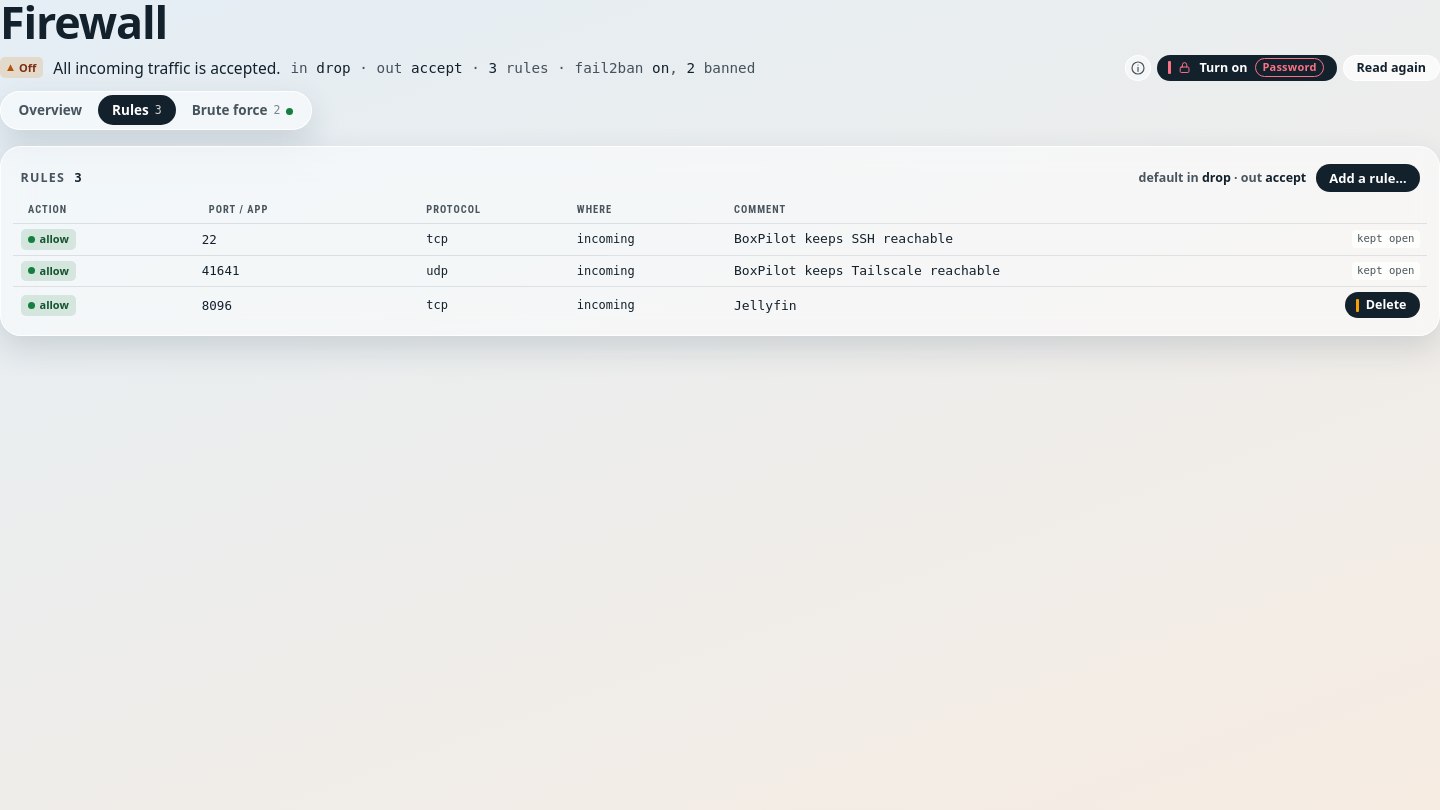
Test: Firewall page › lists the rules, keeps the protected ones, and stages deleting another
Check: the text "Jellyfin" is shown, box [734,298,797,312]
Check: the row "allow 22 tcp incoming BoxPilot keeps SSH reachable kept open" is shown, box [13,224,1427,255]
Click the button with aria-label "Delete allow 8096/tcp".
click(1382, 305)  # box [1345,292,1420,318]
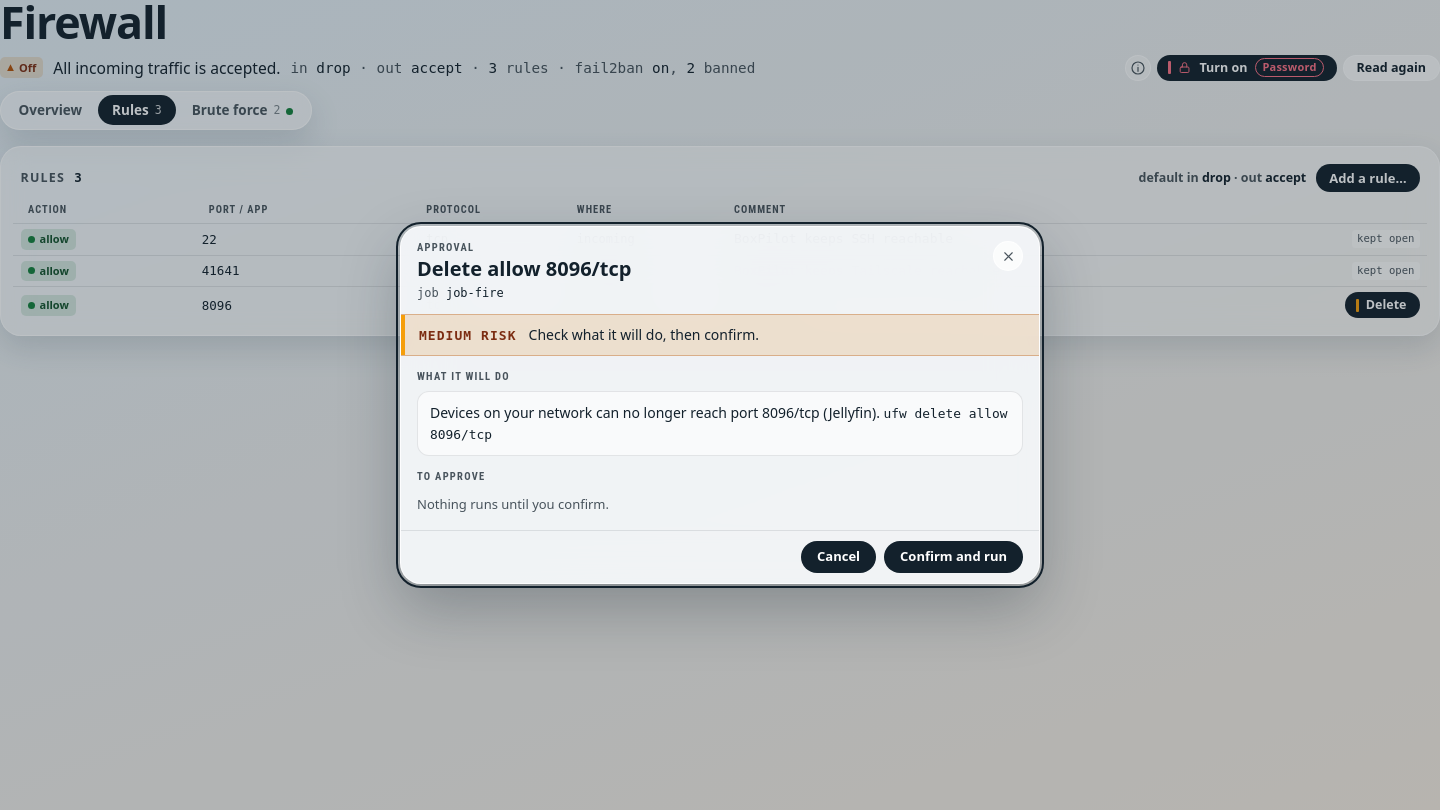
Check: the text "Medium risk" is shown, box [419,328,516,344]
